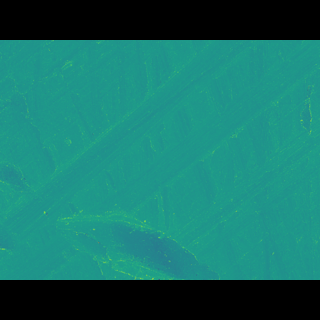Loch: (0, 70, 320, 249), (51, 194, 225, 251), (0, 158, 49, 231), (288, 101, 319, 145)
